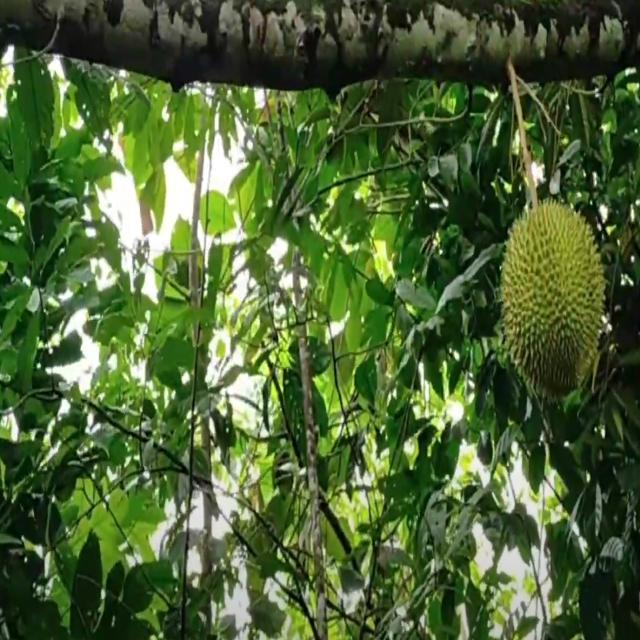immature: (501, 190, 606, 406)
